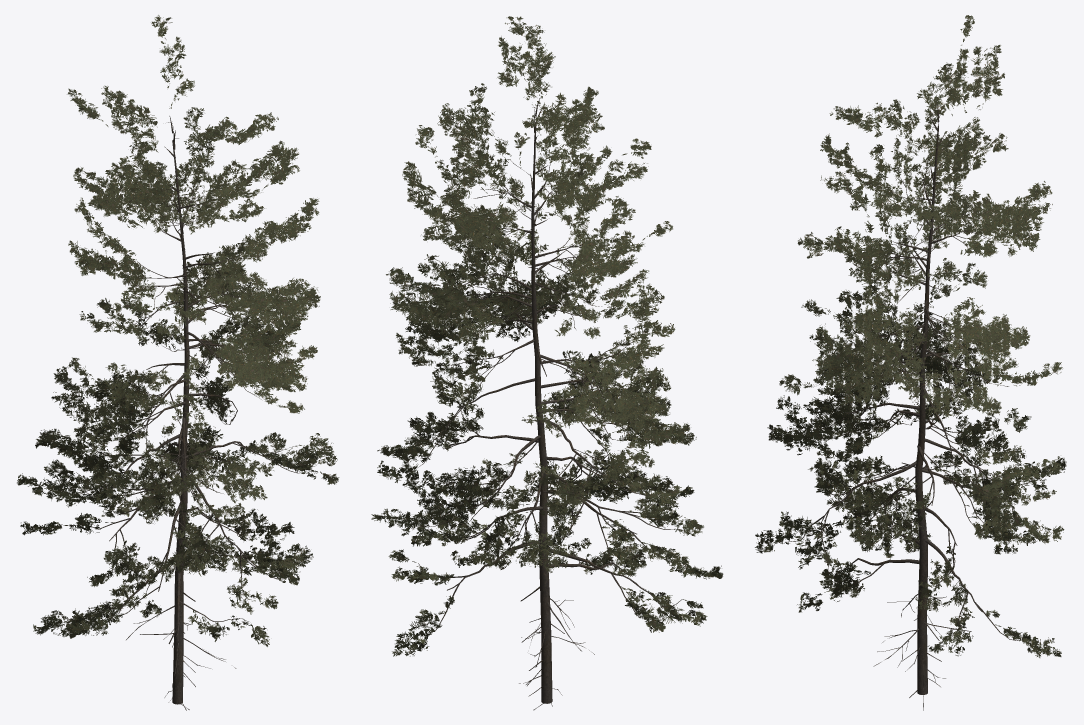
Rendered from conifer_b.glb.
3 renders of one model, left to right at view 1: azimuth 30°, elevation 25°; view 2: azimuth 150°, elevation 25°; view 3: azimuth 270°, elevation 25°, orthographic. The views are drawn at different scales.
Visible parts, largest first — view 1: pine_sapling_medium_a_LOD0; view 2: pine_sapling_medium_a_LOD0; view 3: pine_sapling_medium_a_LOD0.
Part boxes in pixels (x1,y1,x2,y2): pine_sapling_medium_a_LOD0: (17,15,339,710); pine_sapling_medium_a_LOD0: (371,16,723,710); pine_sapling_medium_a_LOD0: (755,15,1066,710).
Size of the model in its own units: 5.19 by 11.51 by 4.77.
3 materials, 3 textured.
